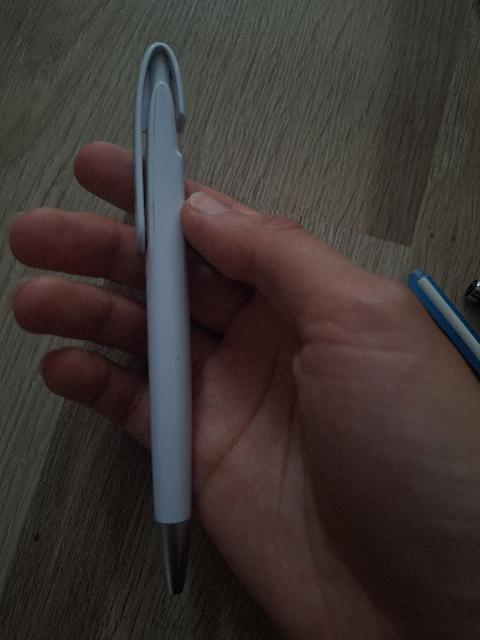writing_tool: (130, 41, 204, 599), (406, 264, 480, 382)
